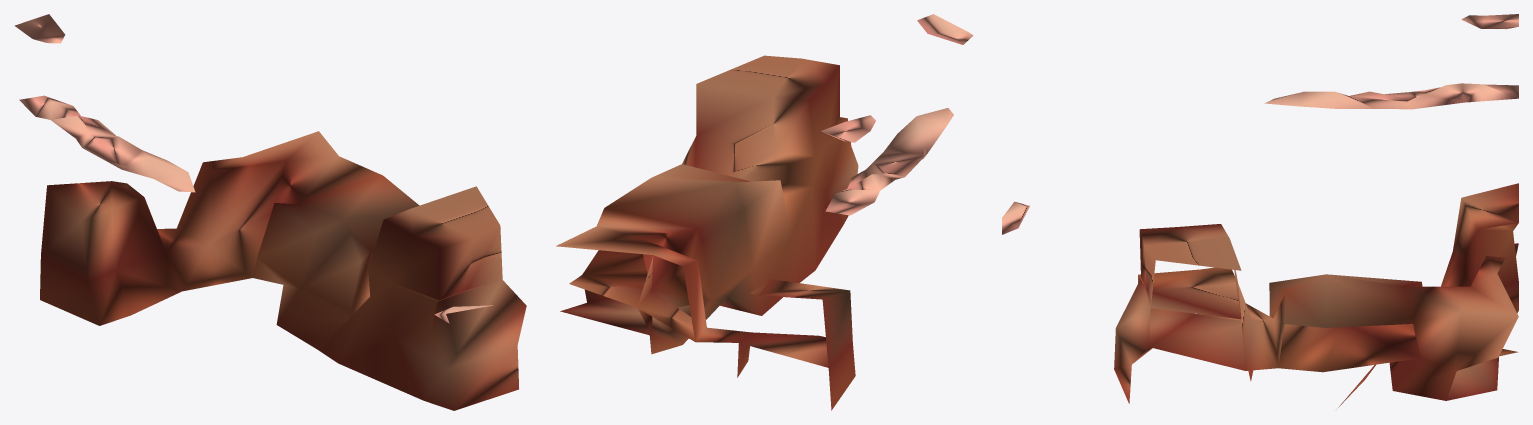
3 renders of one model, left to right at view 1: azimuth 30°, elevation 25°; view 2: azimuth 150°, elevation 25°; view 3: azimuth 270°, elevation 25°, orthographic. The views are drawn at different scales.
Visible parts, largest first — view 1: scene.l1.0.2 (×2); view 2: scene.l1.0.2 (×2); view 3: scene.l1.0.2 (×2).
Part boxes in pixels (bbox=[...]): scene.l1.0.2 (×2): bbox=[14, 14, 526, 410]; scene.l1.0.2 (×2): bbox=[556, 14, 973, 410]; scene.l1.0.2 (×2): bbox=[1002, 14, 1518, 407].
Bounding box in the file's own units: 80.27 × 69.98 × 125.
